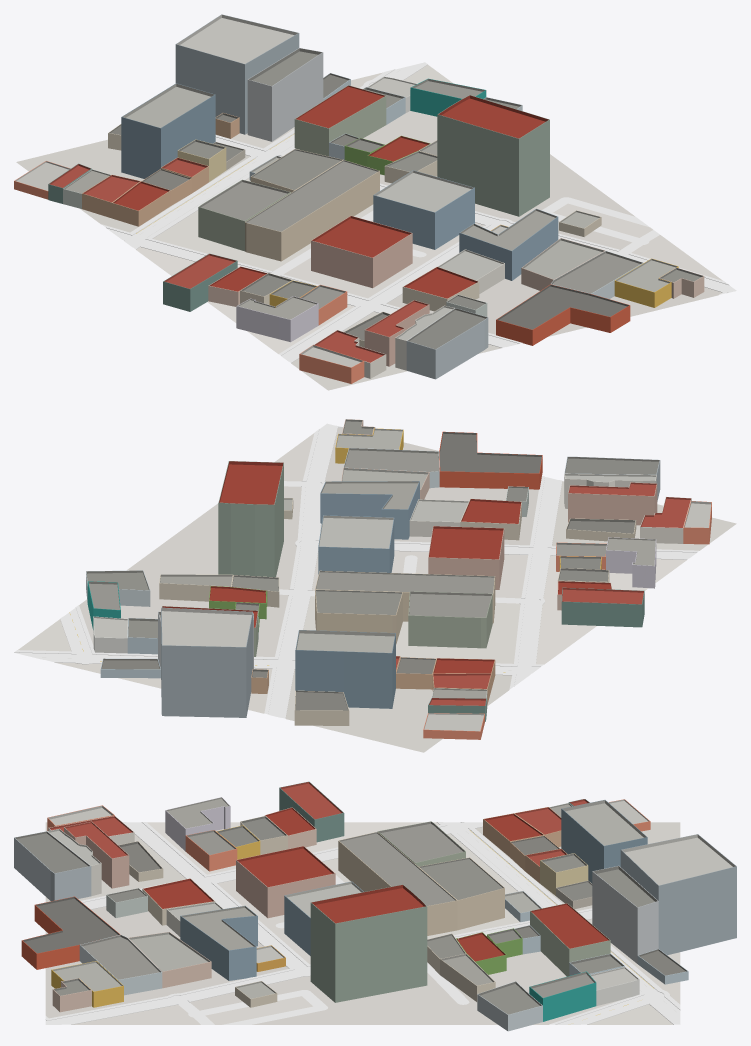
3 views of the same model, one above another, from view 1: azimuth 30°, elevation 25°; view 2: azimuth 150°, elevation 25°; view 3: azimuth 270°, elevation 25° (orthographic).
Parts seen in each view (by area): view 1: walls, roofs, ground, asphalt, sidewalk; view 2: roofs, walls, ground, asphalt, sidewalk; view 3: walls, roofs, ground, asphalt, sidewalk.
Boxes of the visible parts, x1,y1,x2,y2 form: walls: (14,33,704,383); roofs: (14,14,703,367); ground: (16,65,722,390); asphalt: (106,62,736,361); sidewalk: (102,62,728,362); roofs: (86,419,711,731); walls: (86,420,711,739); ground: (18,428,736,752); asphalt: (14,423,696,717); sidewalk: (14,425,698,718); walls: (14,788,736,1031); roofs: (14,781,736,1014); ground: (45,822,680,1024); asphalt: (45,822,680,1024); sidewalk: (45,822,680,1024).
Size of what is drawn, in the model's own units: 211 by 34.4 by 285.
